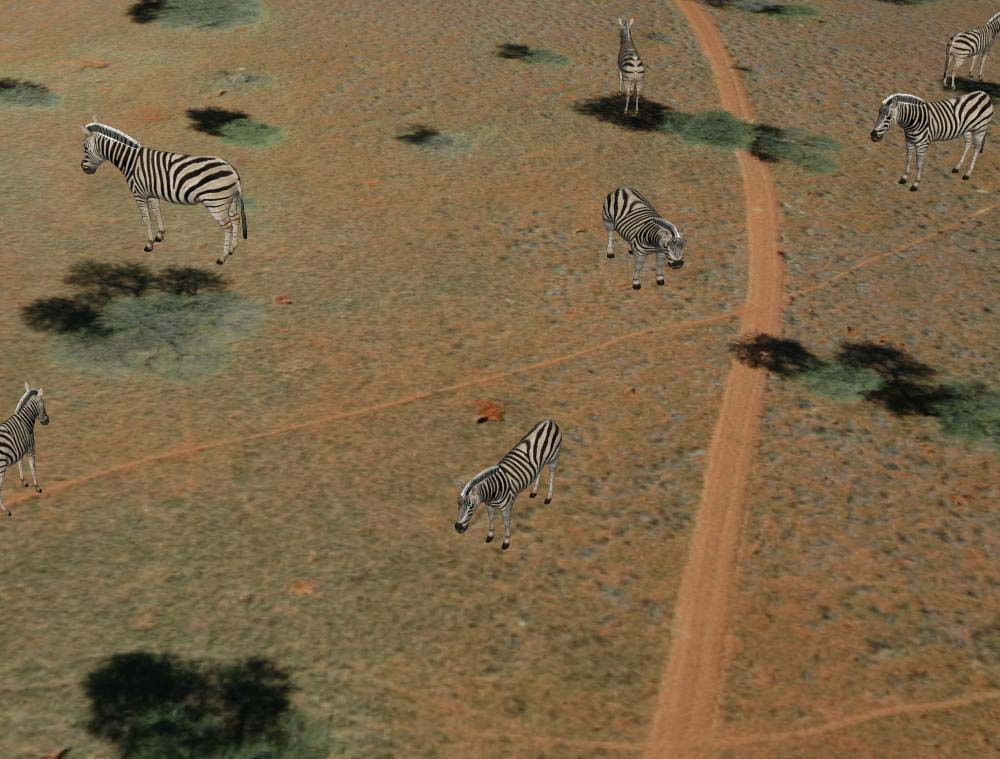zebra: (80, 115, 250, 267), (455, 412, 566, 551), (867, 89, 1000, 189), (596, 180, 694, 294), (1, 383, 53, 502), (609, 7, 650, 123), (942, 10, 1000, 88)
